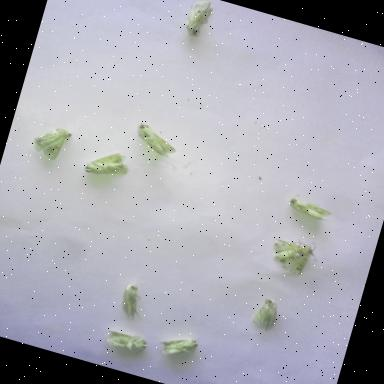abw: (259, 228, 328, 284), (127, 117, 187, 165), (24, 118, 76, 168), (79, 142, 136, 186), (242, 291, 295, 338), (152, 327, 206, 369), (282, 189, 338, 228), (177, 0, 225, 44), (110, 278, 154, 325), (98, 324, 152, 360)
